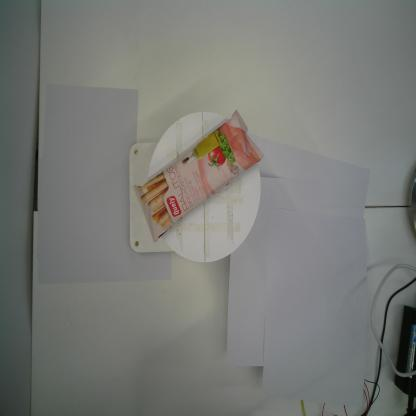Dessert: (132, 109, 265, 243)
